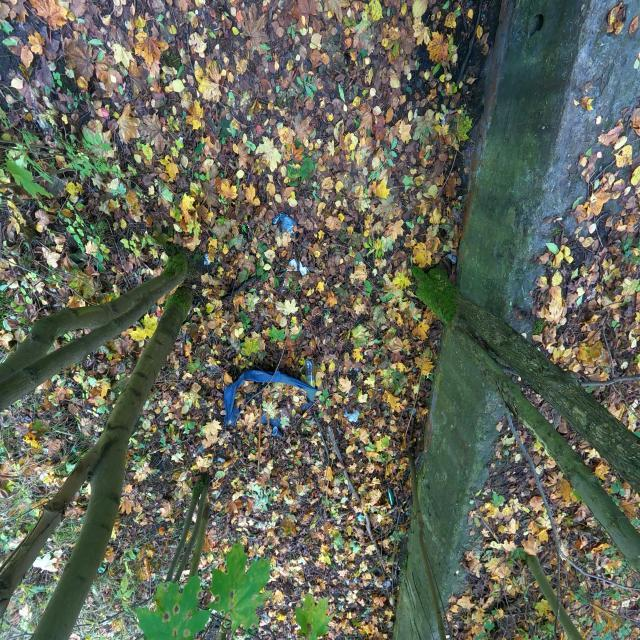rubbish: (320, 211, 418, 270), (413, 132, 429, 183), (342, 405, 368, 427), (329, 362, 355, 383), (324, 252, 335, 280), (435, 180, 450, 197), (280, 216, 296, 231), (182, 376, 197, 387), (245, 134, 253, 154), (357, 202, 369, 215), (429, 374, 436, 387)
